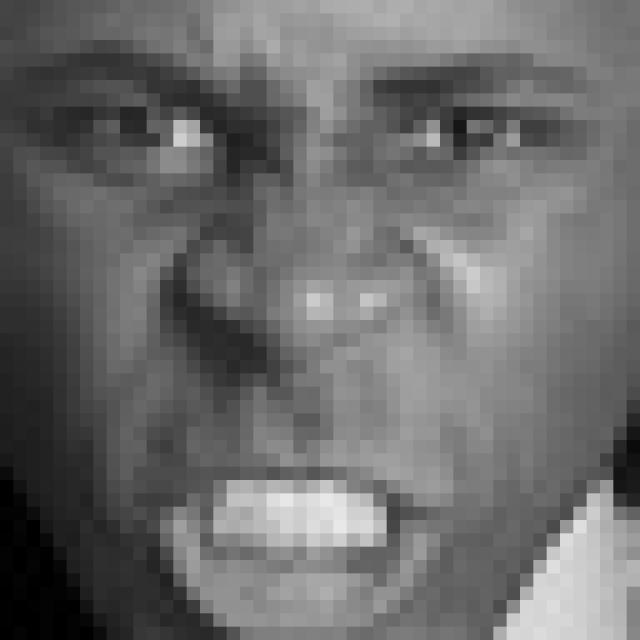angry: (24, 42, 602, 640)
